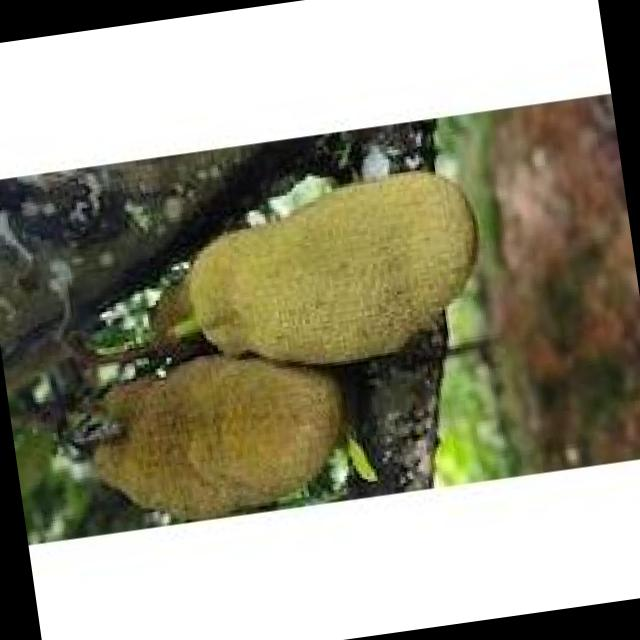Fruit: (147, 137, 520, 406), (42, 308, 380, 538)
